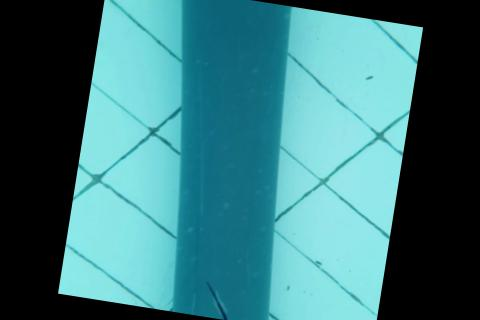keretakan: (198, 281, 258, 320)
